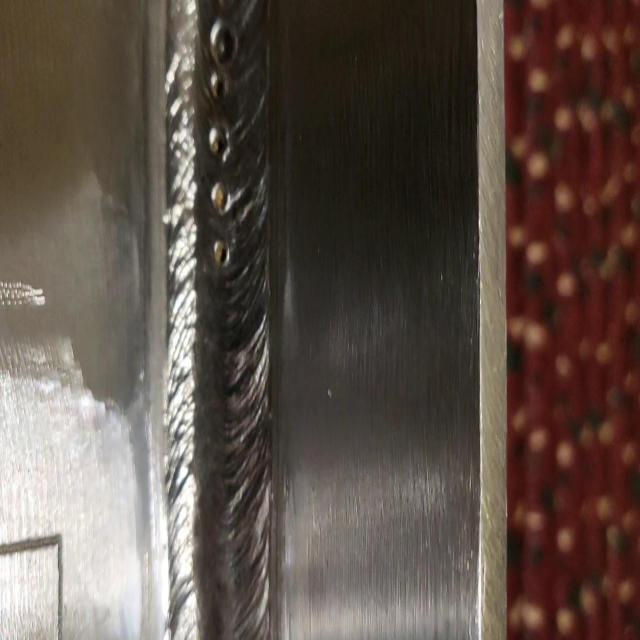Welding Line: (167, 4, 269, 640)
Workpiece: (0, 2, 500, 640)
porosity: (208, 17, 232, 268)
